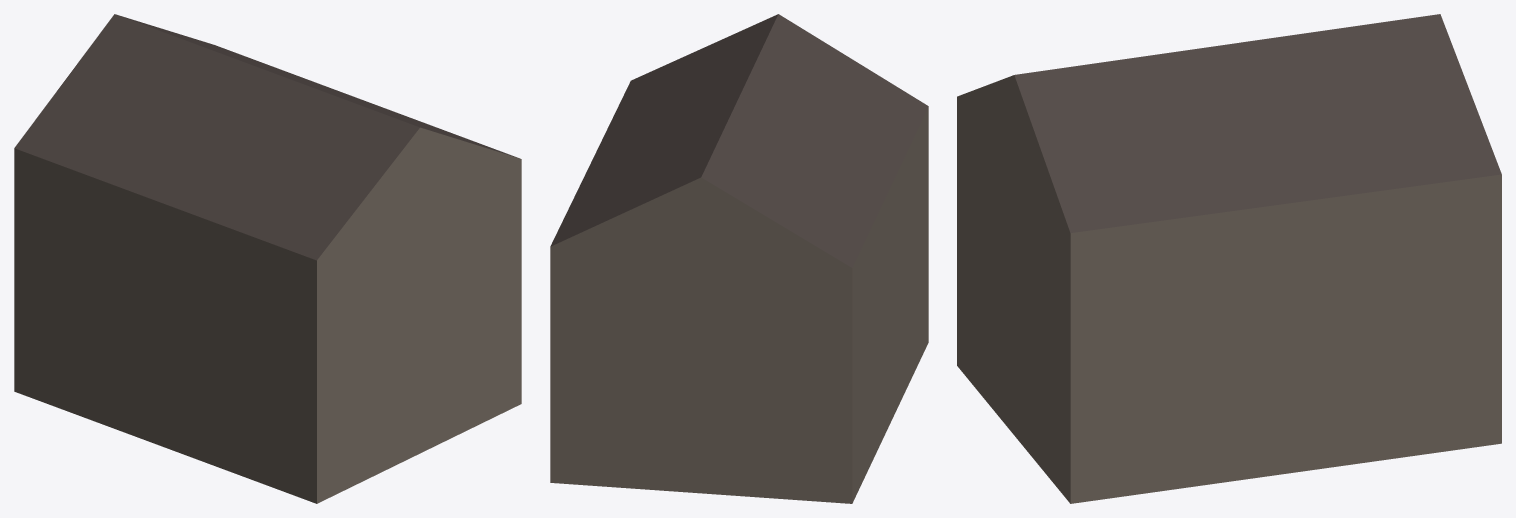
The picture shows the model from 3 angles, left to right: view 1: azimuth 30°, elevation 25°; view 2: azimuth 150°, elevation 25°; view 3: azimuth 270°, elevation 25°; orthographic projection. The views are drawn at different scales.
Visible parts, largest first — view 1: HP-w505643599; view 2: HP-w505643599; view 3: HP-w505643599.
Part boxes in pixels (x1,y1,x2,y2): HP-w505643599: (14, 14, 521, 503); HP-w505643599: (550, 14, 928, 503); HP-w505643599: (957, 14, 1501, 503).
Bounding box in the file's own units: 14.24 × 12.05 × 16.51.
